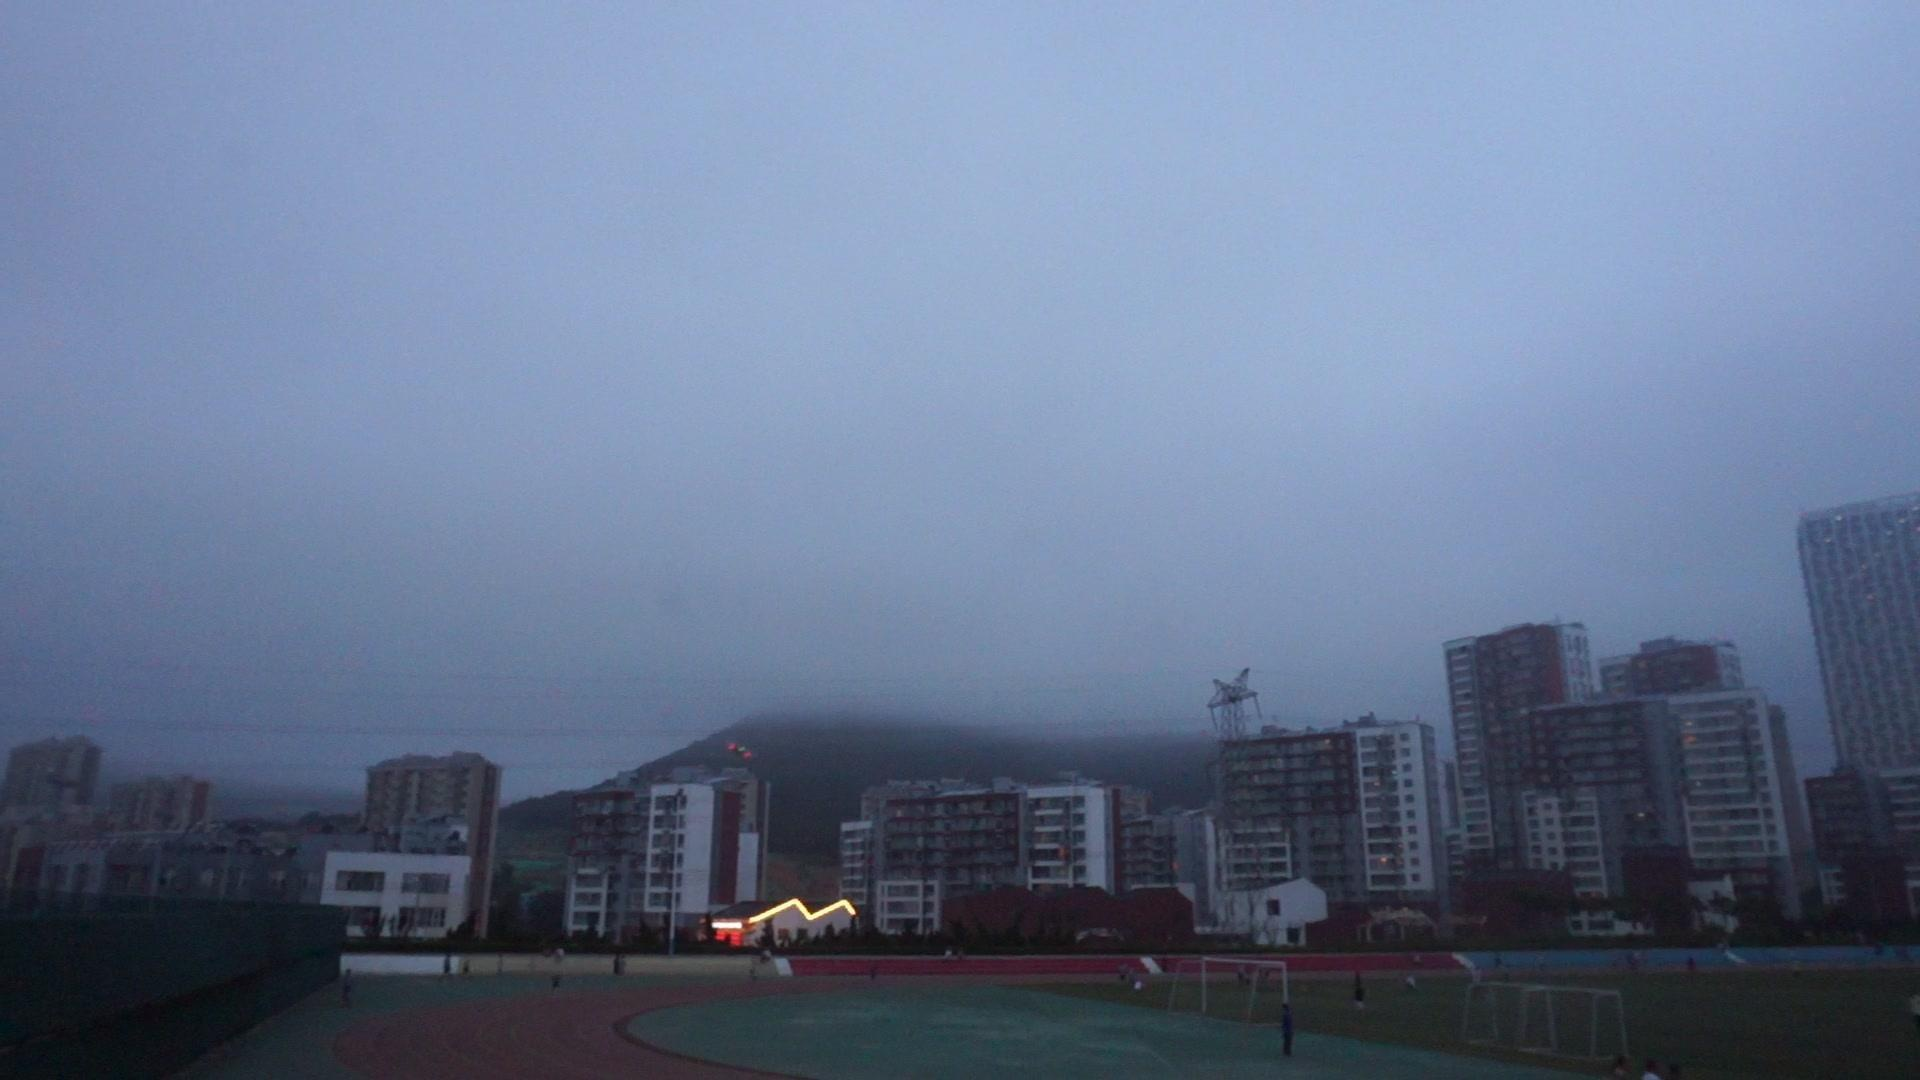UAV: (728, 744, 754, 760)
